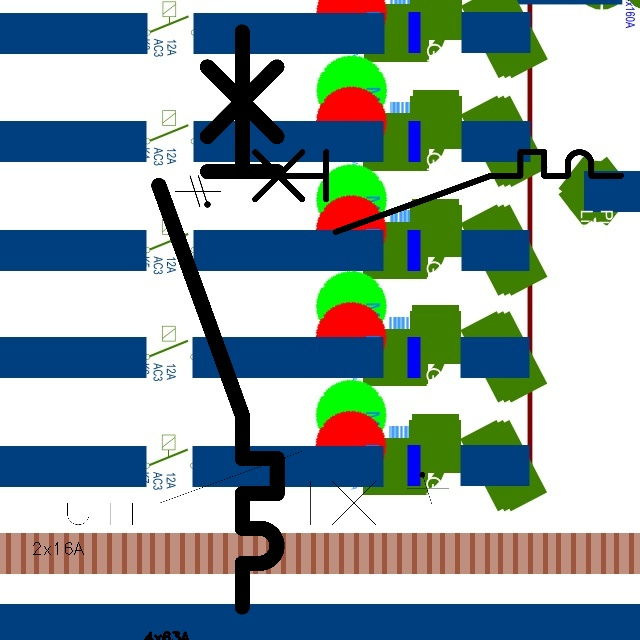interruptor_termomagnetico: (144, 17, 292, 622), (221, 142, 630, 242), (31, 442, 406, 534)
